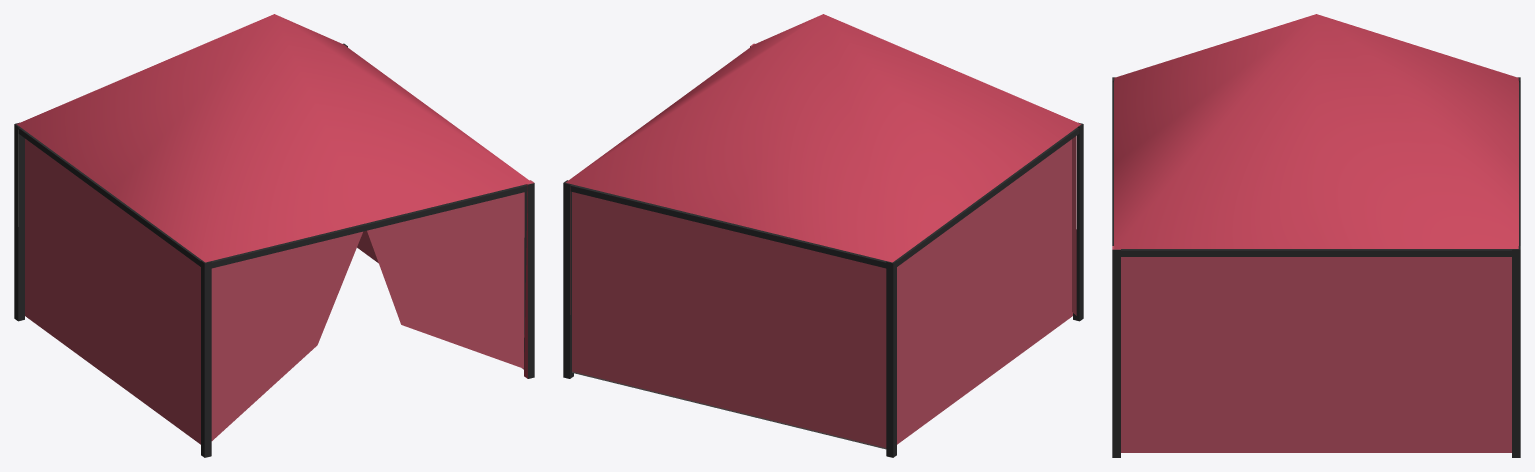
File: Canopy.obj
3 views of the same model, side by side, from view 1: azimuth 30°, elevation 25°; view 2: azimuth 150°, elevation 25°; view 3: azimuth 270°, elevation 25° (orthographic). The views are drawn at different scales.
Parts seen in each view (by area): view 1: Canopy_4; view 2: Canopy_4; view 3: Canopy_4.
Part boxes in pixels (x1,y1,x2,y2): Canopy_4: (14,14,534,457); Canopy_4: (563,14,1083,457); Canopy_4: (1112,14,1520,457).
Bounding box in the file's own units: 817 × 790 × 817.
Materials: 1 (1 with a texture image).
